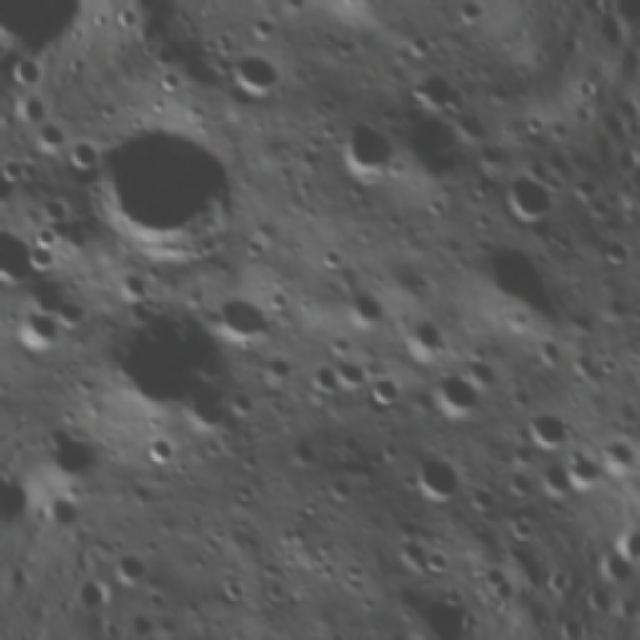crater: (64, 262, 270, 475), (62, 97, 266, 301), (457, 222, 565, 329), (385, 101, 481, 197), (321, 108, 405, 195), (394, 435, 478, 520), (483, 156, 566, 242), (24, 415, 105, 496), (201, 278, 281, 358), (218, 38, 294, 117), (417, 362, 488, 433), (2, 298, 72, 368), (515, 395, 577, 456), (404, 62, 464, 122), (0, 216, 43, 299), (389, 308, 449, 366), (584, 427, 640, 487), (45, 286, 100, 342), (103, 542, 157, 596), (558, 447, 611, 502), (531, 456, 584, 510), (338, 282, 391, 335), (457, 344, 509, 398), (106, 258, 157, 312), (312, 0, 406, 29), (132, 426, 182, 476), (0, 146, 34, 217), (300, 356, 348, 404), (358, 368, 407, 415), (393, 21, 441, 68), (54, 131, 103, 177), (307, 236, 353, 281), (465, 473, 509, 519), (220, 382, 265, 426), (597, 228, 640, 274), (260, 345, 302, 390), (278, 432, 320, 476), (17, 238, 58, 280), (501, 508, 542, 549), (322, 471, 362, 512), (259, 280, 299, 320), (500, 463, 540, 503), (563, 168, 602, 208), (235, 232, 272, 270), (320, 327, 358, 364), (448, 0, 489, 34), (152, 64, 188, 101), (139, 581, 175, 617), (332, 356, 368, 392), (33, 121, 70, 156), (216, 574, 250, 609), (28, 221, 61, 256), (418, 545, 451, 578), (0, 151, 28, 187), (155, 627, 199, 640), (631, 340, 640, 378)
